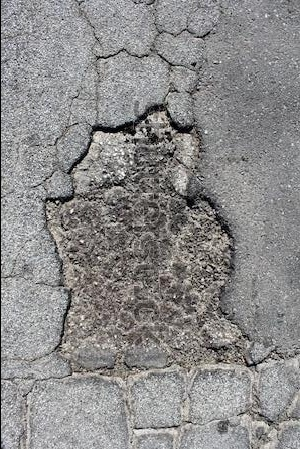pothole: (41, 100, 241, 377)
